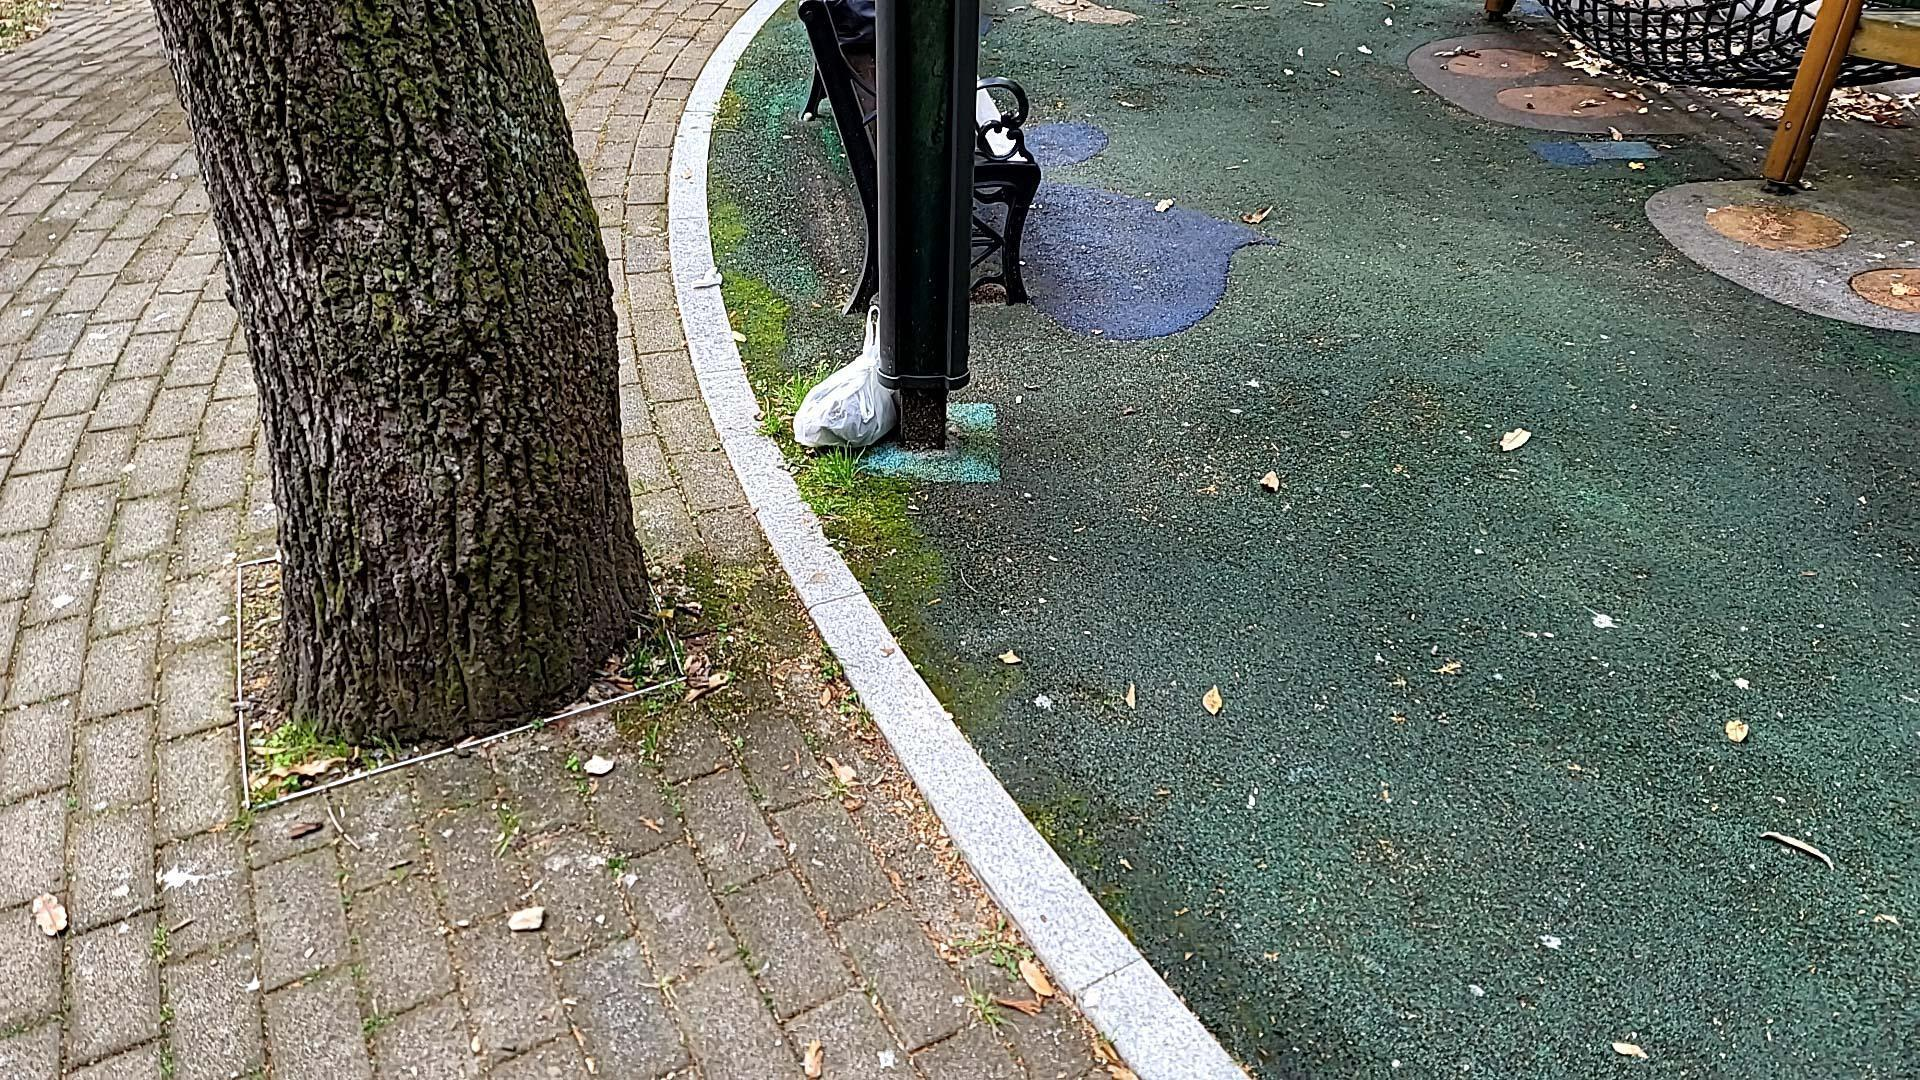white_bag: (780, 303, 904, 446)
